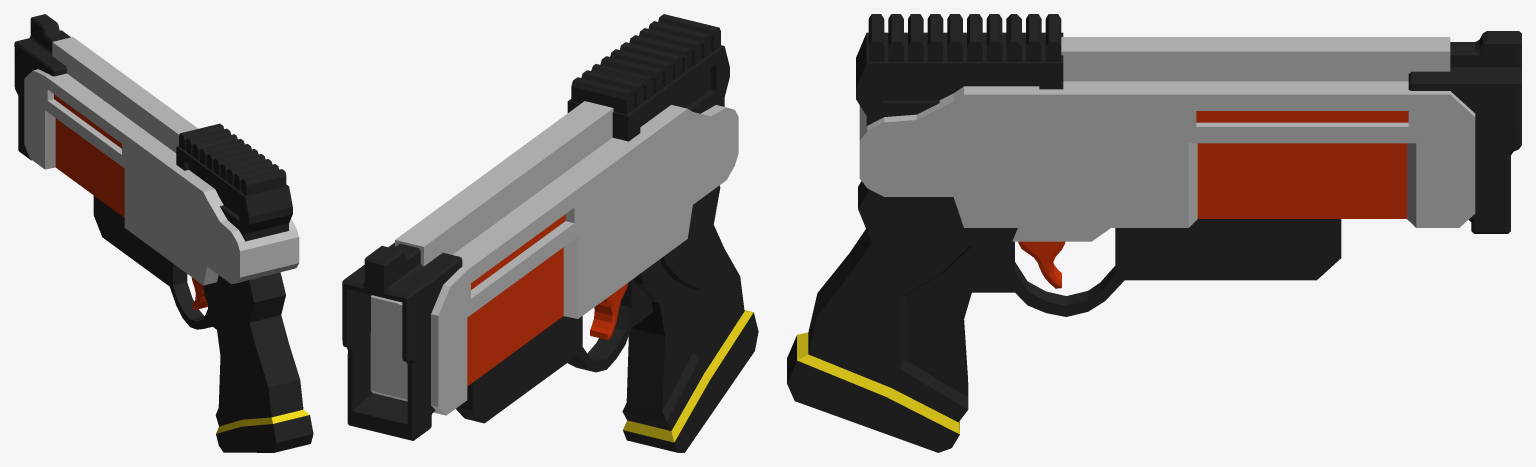
The model's file is taser gun.fbx.
3 views of the same model, side by side, from view 1: azimuth 30°, elevation 25°; view 2: azimuth 150°, elevation 25°; view 3: azimuth 270°, elevation 25° (orthographic). The views are drawn at different scales.
Visible parts, largest first — view 1: Pistol.001; view 2: Pistol.001; view 3: Pistol.001.
Part boxes in pixels (x1=…): Pistol.001: x1=14, y1=14, x2=313, y2=452; Pistol.001: x1=342, y1=14, x2=758, y2=452; Pistol.001: x1=787, y1=14, x2=1521, y2=452.
Bounding box in the file's own units: 38.13 × 178 × 287.
Materials: 1 (1 with a texture image).
